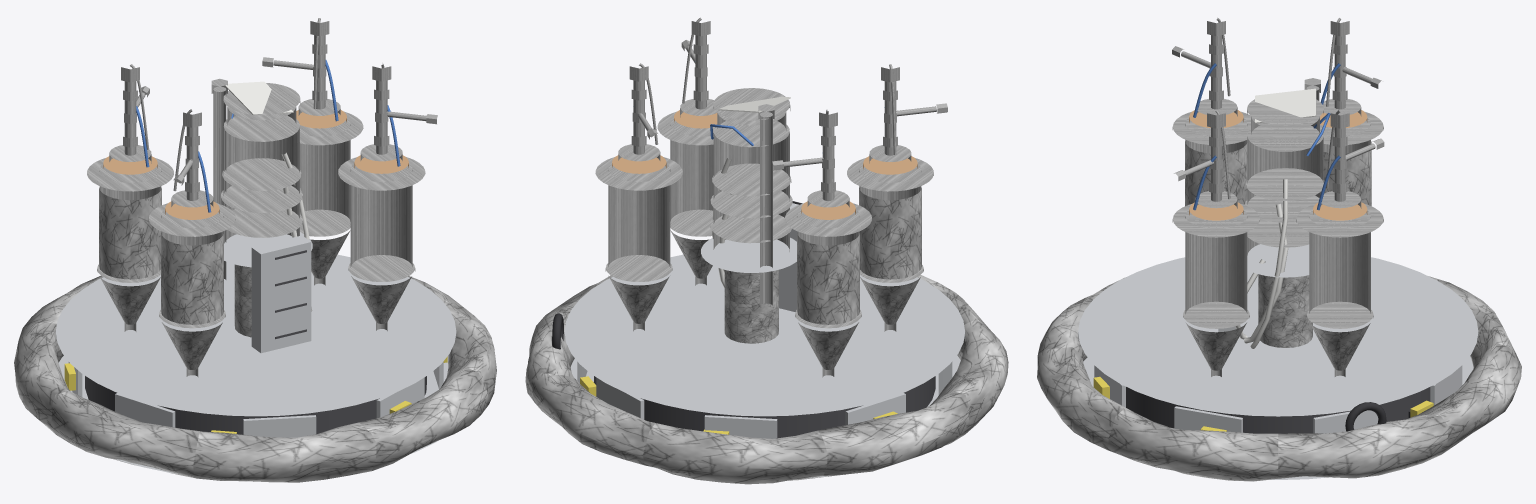
Rendered from reactor_kilopower.glb.
3 views of the same model, side by side, from view 1: azimuth 30°, elevation 25°; view 2: azimuth 150°, elevation 25°; view 3: azimuth 270°, elevation 25° (orthographic).
Parts seen in each view (by area): view 1: Platform, Vessels, Insulation, Core, Fittings, Cables; view 2: Platform, Vessels, Insulation, Core, Fittings, Cables; view 3: Platform, Insulation, Vessels, Core, Fittings, Cables.
Part boxes in pixels (x1,y1,x2,y2): Platform: (55,254,456,473); Vessels: (87,99,425,377); Insulation: (14,276,496,482); Core: (211,78,312,353); Fittings: (121,21,437,200); Cables: (130,18,400,311); Platform: (552,254,965,478); Vessels: (595,99,933,377); Insulation: (525,275,1008,484); Core: (701,88,802,343); Fittings: (629,21,947,200); Cables: (639,17,896,288); Platform: (1078,257,1478,479); Insulation: (1037,276,1521,481); Vessels: (1172,99,1383,376); Core: (1218,78,1324,347); Fittings: (1172,21,1384,201); Cables: (1193,17,1340,348).
Size of the model in its own units: 1.33 by 1 by 1.33.
Materials: 10 (2 with a texture image).
